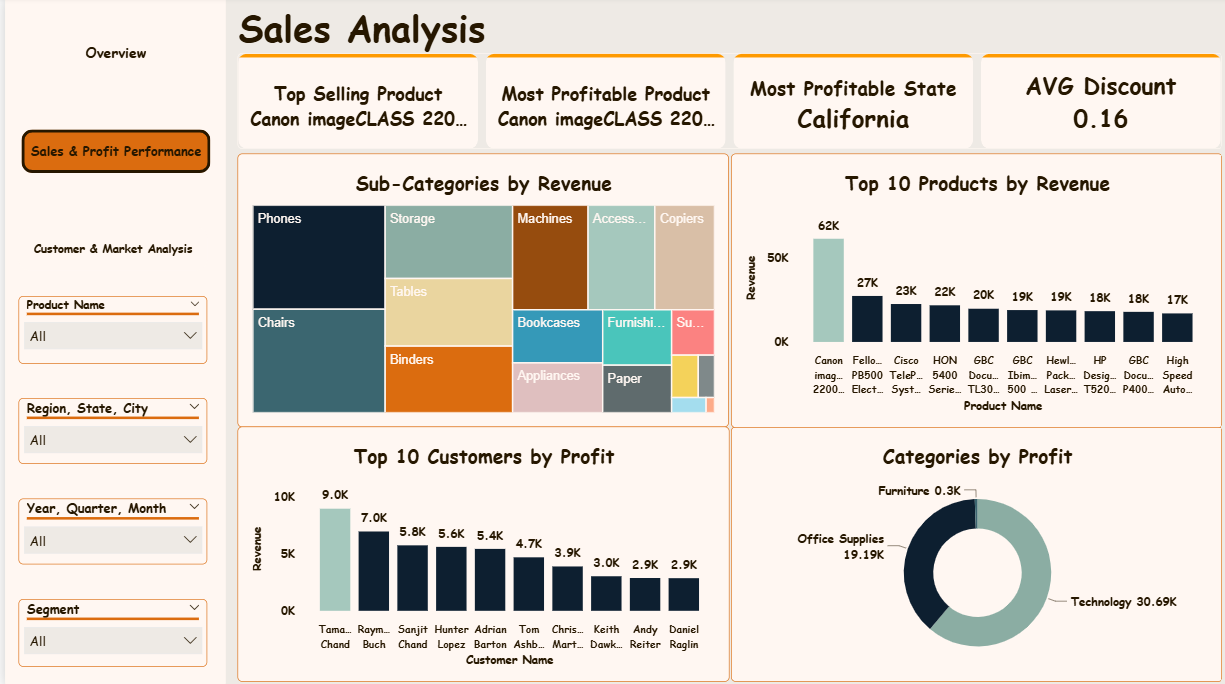

The dashboard page shown, as its layout file describes it:
{"tool":"powerbi","page":{"name":"Sales & Profit Performance","canvas":[1280,720],"ordinal":1},"visuals":[{"type":"textbox","box":[211,6.3,373.6,57.8],"z":0},{"type":"shape","box":[0,0,229.8,720],"z":1000},{"type":"actionButton","box":[17.2,138.3,196.9,45.3],"z":2000},{"type":"actionButton","box":[14.1,240.7,196.9,45.3],"z":3000},{"type":"cardVisual","fields":{"Data":["Table 1 (Sheet1).Top Selling Product","Table 1 (Sheet1).Most Profitable Product","Table 1 (Sheet1).Most Profitable State","Avg(Table 1 (Sheet1).Discount)"]},"box":[242.3,59.4,1026.9,100],"z":4000},{"type":"actionButton","box":[17.2,35.9,196.9,45.3],"z":5000},{"type":"slicer","fields":{"Values":["Table 1 (Sheet1).Segment"]},"box":[14.1,628.3,196.9,70.3],"z":6000},{"type":"slicer","fields":{"Values":["Table 1 (Sheet1).Region","Table 1 (Sheet1).State","Table 1 (Sheet1).City"]},"box":[14.1,418.9,196.9,68.8],"z":7000},{"type":"slicer","fields":{"Values":["Table 1 (Sheet1).Product Name"]},"box":[14.1,312.6,196.9,70.3],"z":8000},{"type":"slicer","fields":{"Values":["Table 1 (Sheet1).Order Date.Variation.Date Hierarchy.Year","Table 1 (Sheet1).Order Date.Variation.Date Hierarchy.Quarter","Table 1 (Sheet1).Order Date.Variation.Date Hierarchy.Month"]},"box":[14.1,523.6,196.9,68.8],"z":9000},{"type":"treemap","title":"Sub-Categories by Revenue","fields":{"Group":["Table 1 (Sheet1).Sub-Category"],"Values":["Sum(Table 1 (Sheet1).Sales)"]},"box":[242.3,164.1,512,285],"z":11000},{"type":"clusteredColumnChart","title":"Top 10 Customers by Profit","fields":{"Category":["Table 1 (Sheet1).Customer Name"],"Y":["Sum(Table 1 (Sheet1).Profit)"]},"box":[242.3,448.6,512.7,265.7],"z":12000},{"type":"donutChart","title":"Categories by Profit","fields":{"Category":["Table 1 (Sheet1).Category"],"Y":["Sum(Table 1 (Sheet1).Profit)"]},"box":[756.5,448.6,512.7,265.7],"z":13000},{"type":"clusteredColumnChart","title":"Top 10 Products by Revenue","fields":{"Category":["Table 1 (Sheet1).Product Name"],"Y":["Sum(Table 1 (Sheet1).Sales)"]},"box":[756.5,164.1,512.7,286],"z":14000}]}

Visuals, with their boxes in screenshot pixels (x1, y1, x2, y2), scaled from the page's 1280x720 canvas onto the 1225x684 screenshot:
textbox: 202/6/559/61
shape: 0/0/220/683
actionButton: 16/131/205/174
actionButton: 13/229/202/272
cardVisual - Table 1 (Sheet1).Top Selling Product x Table 1 (Sheet1).Most Profitable Product: 232/56/1215/151
actionButton: 16/34/205/77
slicer - Table 1 (Sheet1).Segment: 13/597/202/664
slicer - Table 1 (Sheet1).Region x Table 1 (Sheet1).State: 13/398/202/463
slicer - Table 1 (Sheet1).Product Name: 13/297/202/364
slicer - Table 1 (Sheet1).Order Date.Variation.Date Hierarchy.Year x Table 1 (Sheet1).Order Date.Variation.Date Hierarchy.Quarter: 13/497/202/563
"Sub-Categories by Revenue" treemap: 232/156/722/427
"Top 10 Customers by Profit" clusteredColumnChart: 232/426/723/679
"Categories by Profit" donutChart: 724/426/1215/679
"Top 10 Products by Revenue" clusteredColumnChart: 724/156/1215/428
